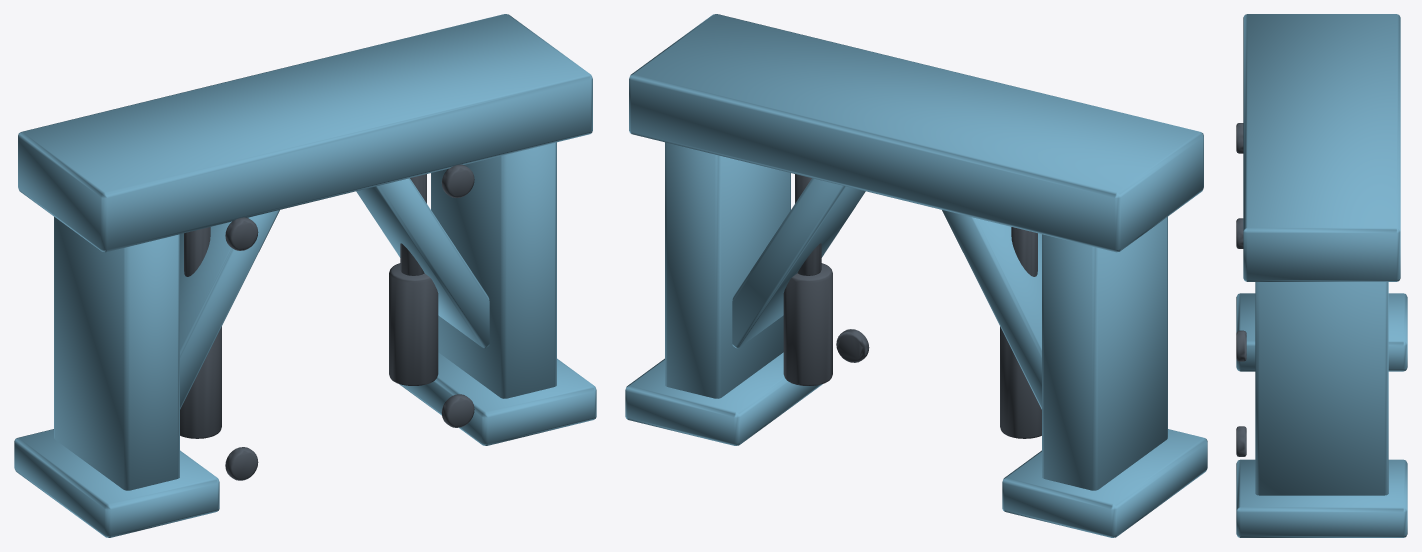
File: A05_MECHANICAL_STABILIZER.fbx
3 views of the same model, side by side, from view 1: azimuth 30°, elevation 25°; view 2: azimuth 150°, elevation 25°; view 3: azimuth 270°, elevation 25° (orthographic). The views are drawn at different scales.
Visible parts, largest first — view 1: A05_MECHANICAL_STABILIZER; view 2: A05_MECHANICAL_STABILIZER; view 3: A05_MECHANICAL_STABILIZER.
Part boxes in pixels (left/top/right/bottom): A05_MECHANICAL_STABILIZER: left=14, top=14, right=596, bottom=537; A05_MECHANICAL_STABILIZER: left=625, top=14, right=1207, bottom=537; A05_MECHANICAL_STABILIZER: left=1236, top=14, right=1407, bottom=537.
Bounding box in the file's own units: 300 × 200 × 100.
